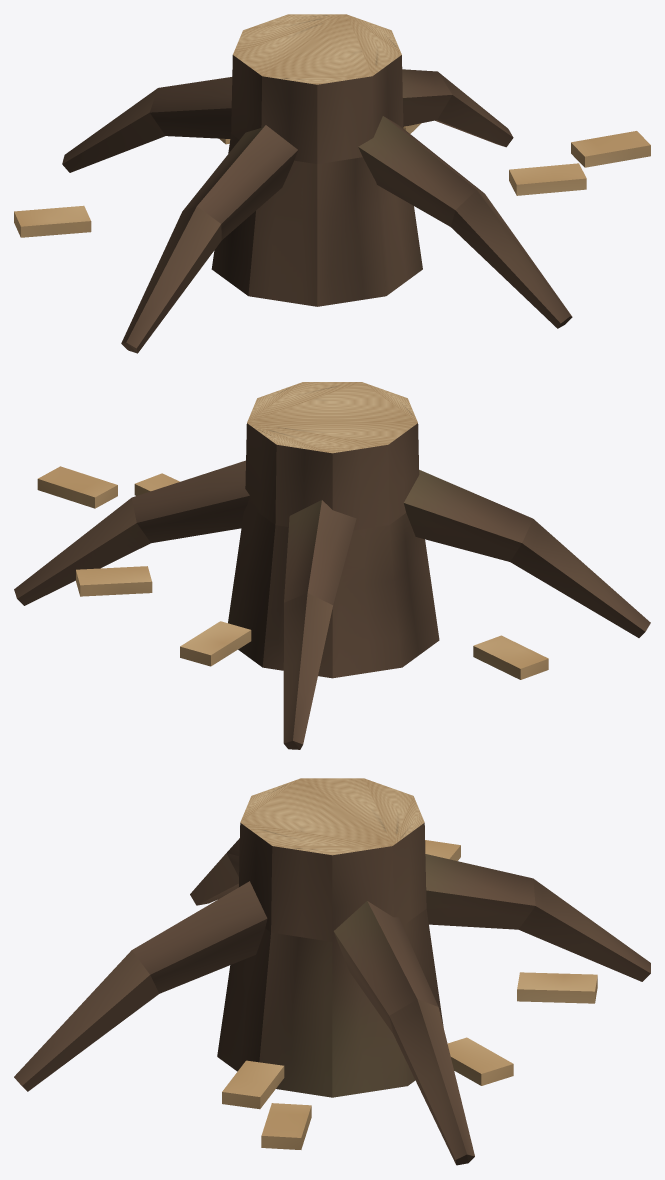
File: SM_Tree_Oak_Small01_Stump.fbx
The picture shows the model from 3 angles, top to bottom: view 1: azimuth 30°, elevation 25°; view 2: azimuth 150°, elevation 25°; view 3: azimuth 270°, elevation 25°; orthographic projection. The views are drawn at different scales.
Visible parts, largest first — view 1: SM_Tree_Oak_Small01_Stump; view 2: SM_Tree_Oak_Small01_Stump; view 3: SM_Tree_Oak_Small01_Stump.
Part boxes in pixels (x1,y1,x2,y2): SM_Tree_Oak_Small01_Stump: [14, 14, 650, 353]; SM_Tree_Oak_Small01_Stump: [14, 382, 650, 749]; SM_Tree_Oak_Small01_Stump: [14, 778, 650, 1165].
Bounding box in the file's own units: 3.17 × 1.15 × 2.86.
1 material, 1 textured.
